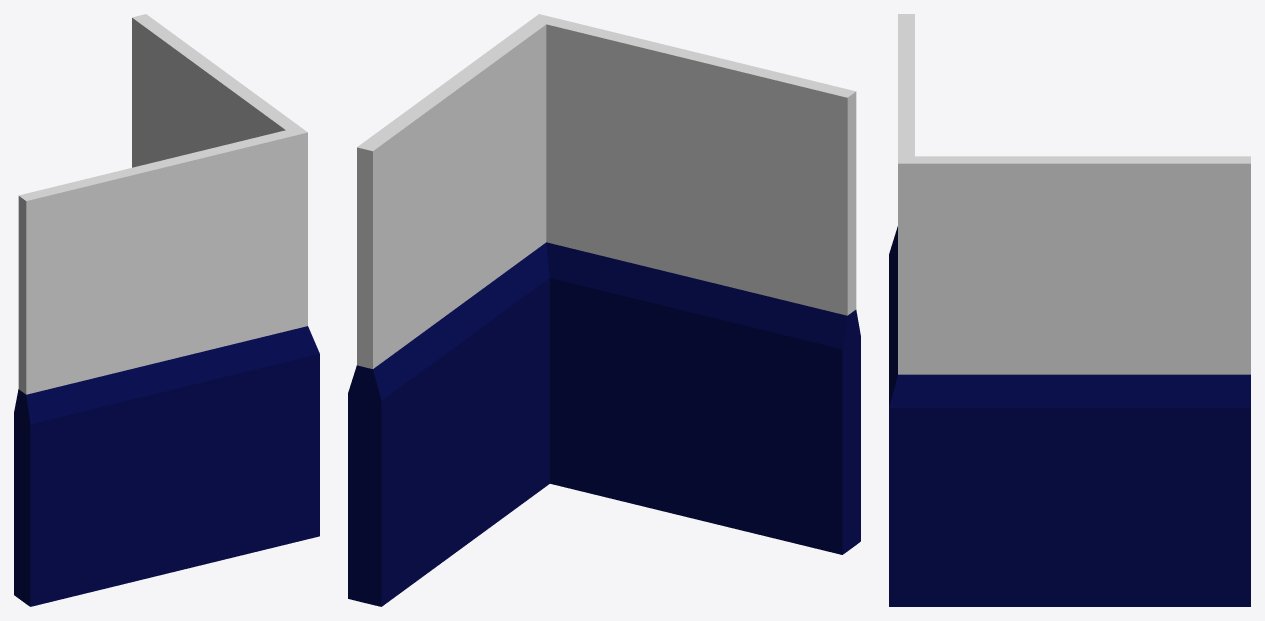
The model's file is wall_3.fbx.
The picture shows the model from 3 angles, left to right: view 1: azimuth 30°, elevation 25°; view 2: azimuth 150°, elevation 25°; view 3: azimuth 270°, elevation 25°; orthographic projection. The views are drawn at different scales.
Parts seen in each view (by area): view 1: WALL_1.002; view 2: WALL_1.002; view 3: WALL_1.002.
Boxes of the visible parts, bbox=[...] form: WALL_1.002: bbox=[14, 14, 319, 606]; WALL_1.002: bbox=[348, 14, 860, 606]; WALL_1.002: bbox=[889, 14, 1250, 606].
Size of the model in its own units: 3.4 by 4.52 by 3.38.
